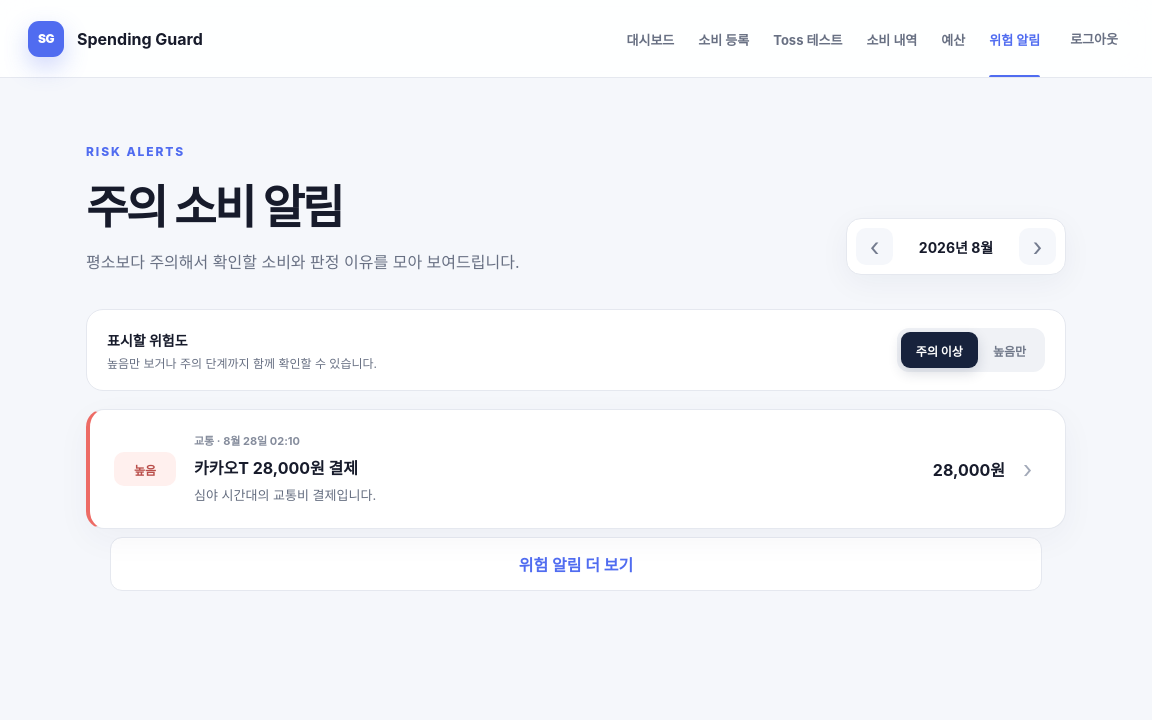
it: RiskAlertFeed › keeps the current alerts when the next page fails
The width and height of the screenshot is (1152, 720).
Expected: the text "카카오T 28,000원 결제" is shown, [194, 458, 358, 478]
Step 1. Click the button "위험 알림 더 보기" → (576, 564), box [110, 537, 1042, 591]
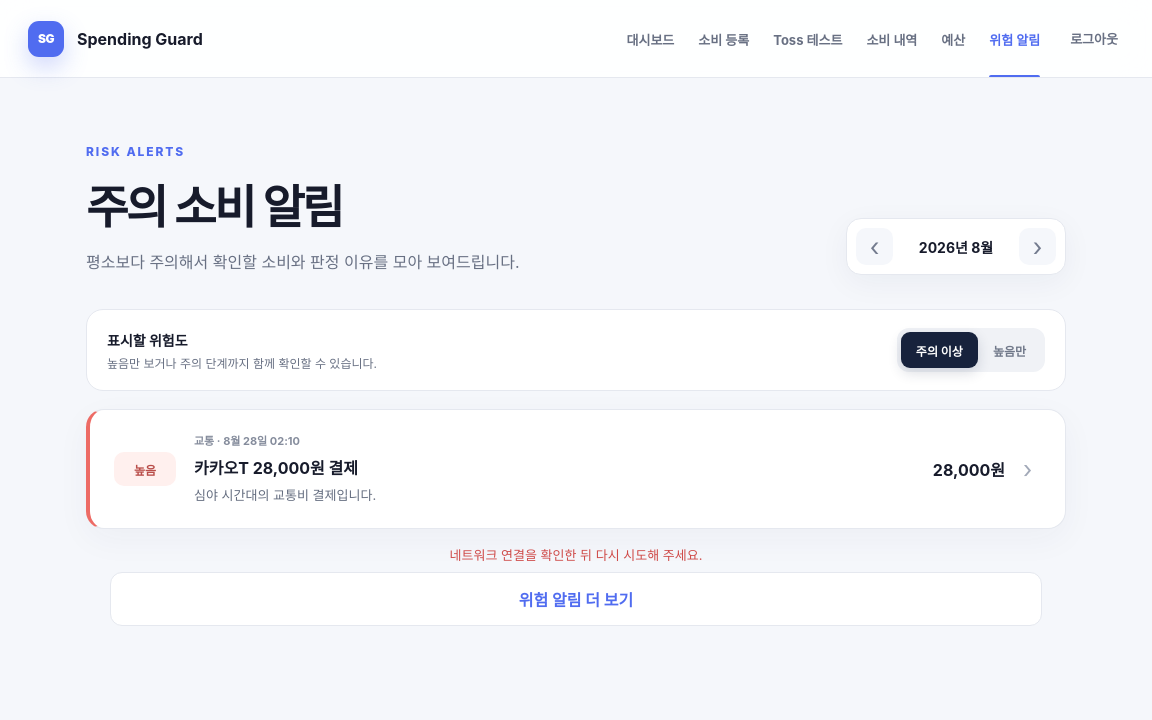
Expected: the text "카카오T 28,000원 결제" is shown, [194, 458, 358, 478]
Expected: the message shows "네트워크 연결", [450, 547, 702, 563]
